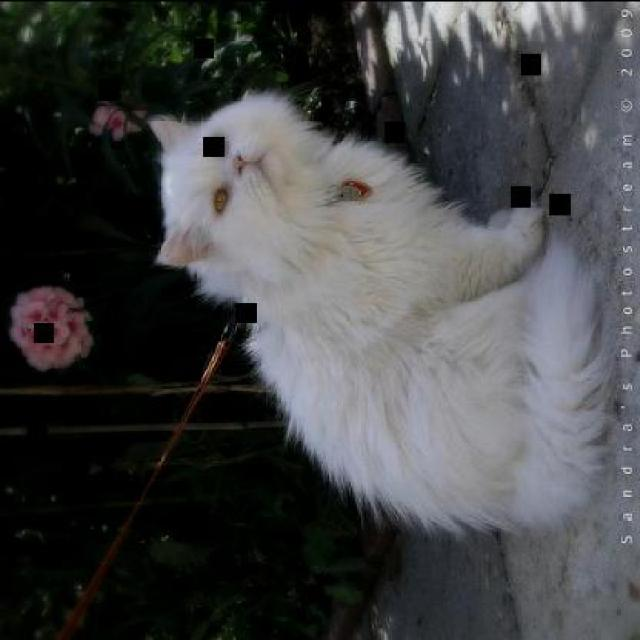unauthorized: (145, 86, 617, 539)
